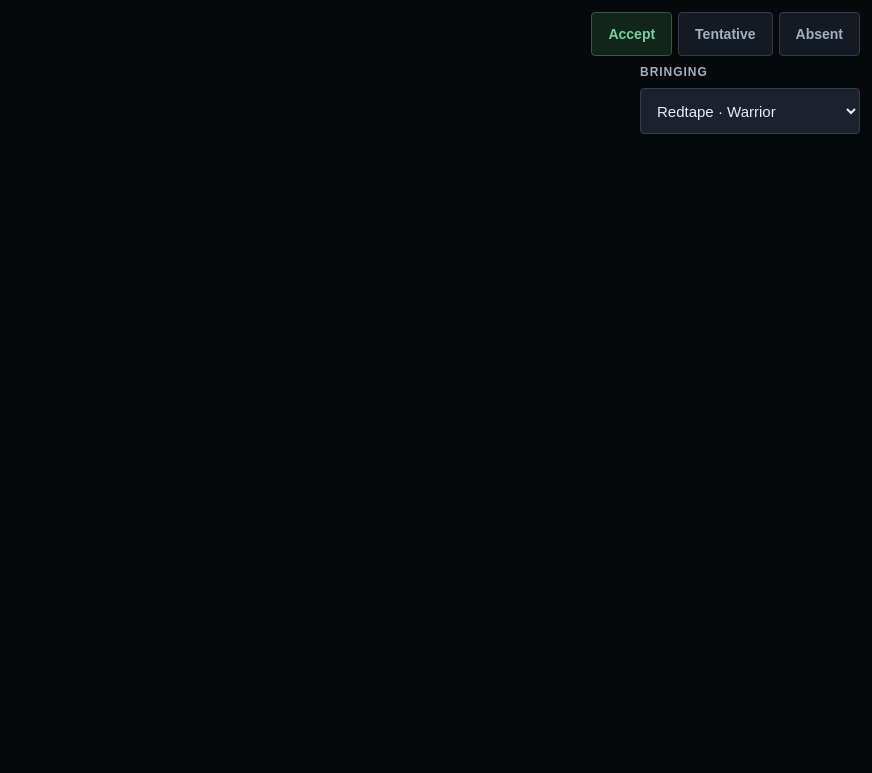
RaidResponseControl character choice › announces reserves removed by a successful switch
Select "Triplicate · Mage" in the dropdown labelled "Bringing" at (750, 111), box [640, 88, 860, 134]
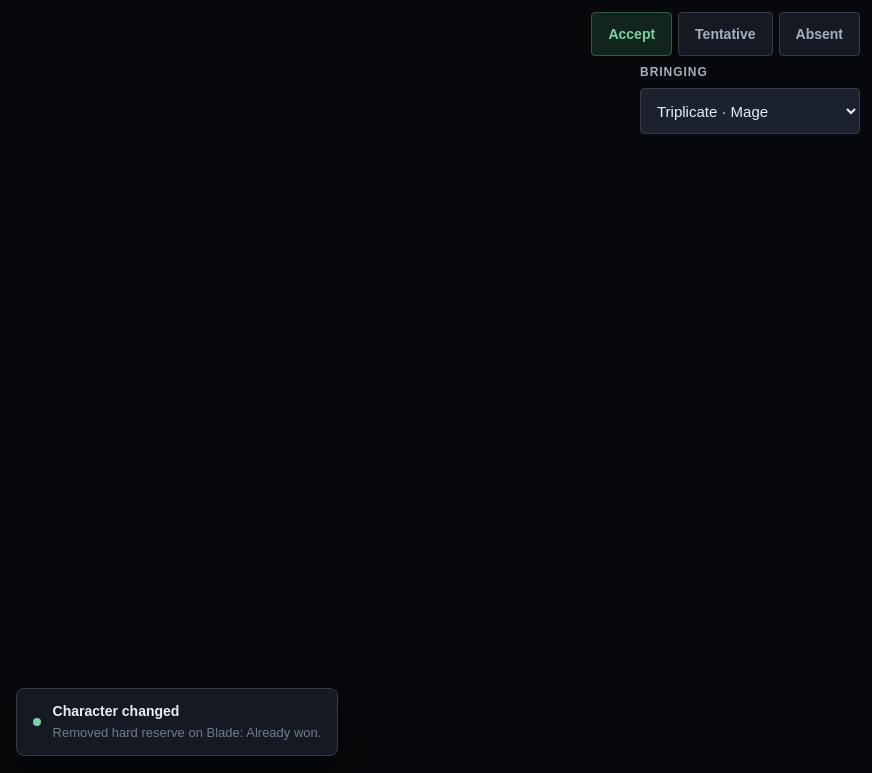
Expected: the text "Character changed" is shown, [53, 703, 179, 719]
Expected: the text "Removed hard reserve on Blade: Already won." is shown, [53, 723, 321, 743]
